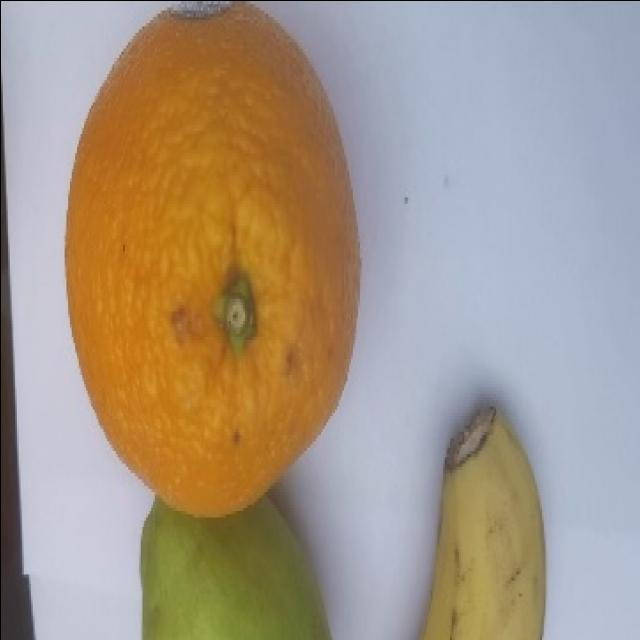Banana: (425, 403, 551, 640)
Orange: (60, 0, 368, 522)
